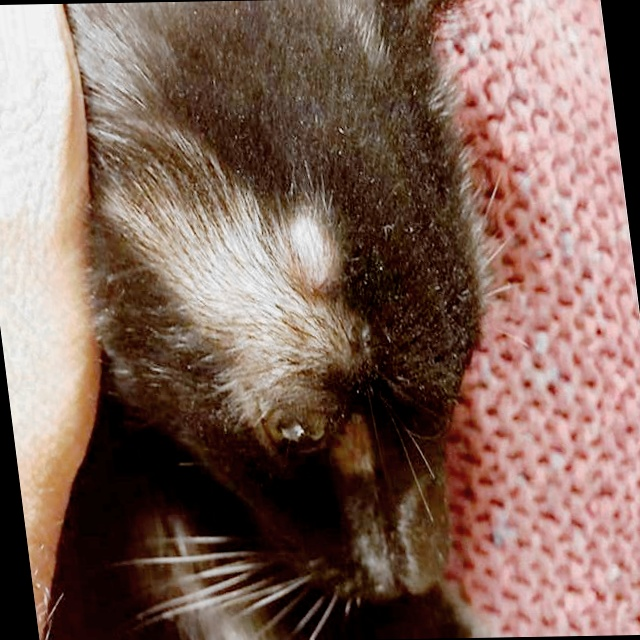lump_and_bump: (283, 224, 335, 270)
